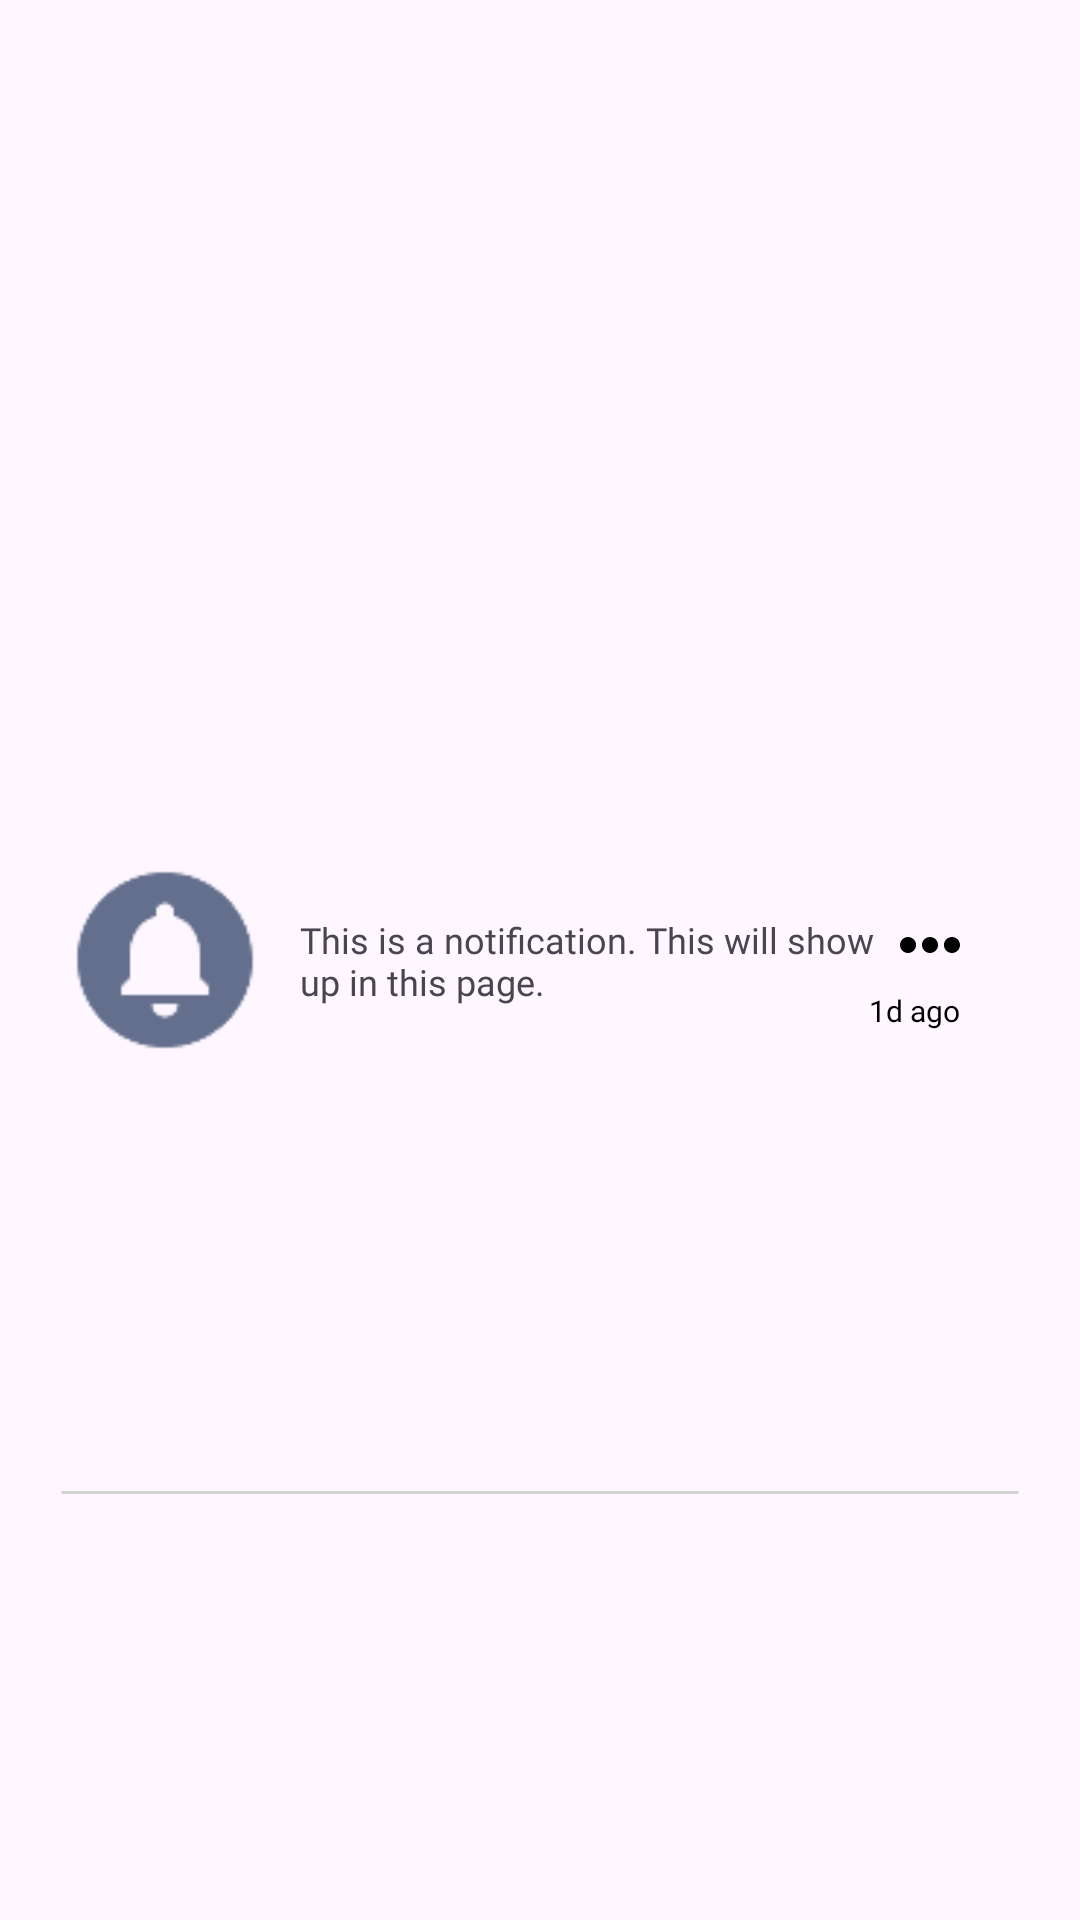

Locate icon controls on the screen. Image size 1080x1920, boxes as (x1, y1, x2, y2).
ellipsis dots: (900, 937, 960, 953)
